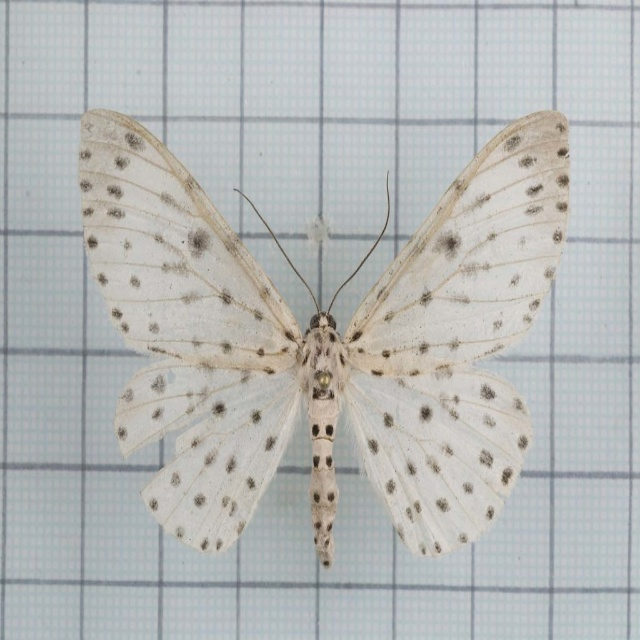Butterfly: (66, 94, 576, 591)
